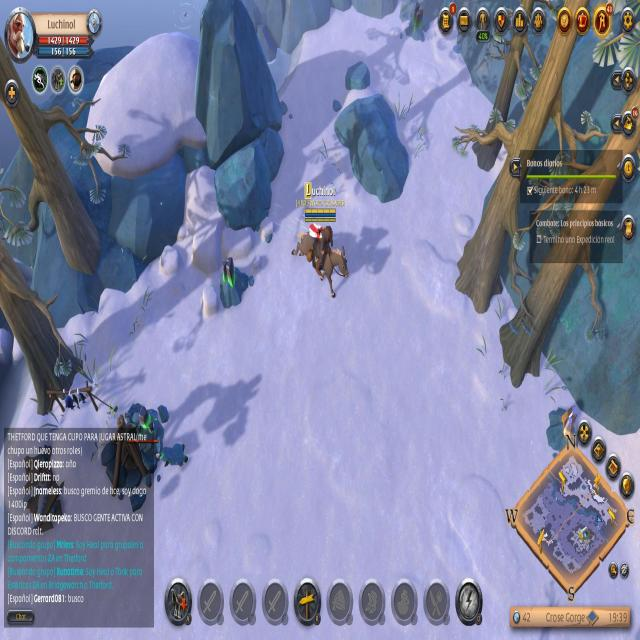piedra_cobre: (544, 396, 582, 457)
